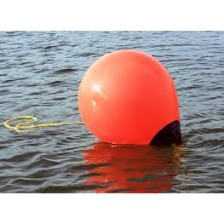buoy: (77, 50, 181, 145)
